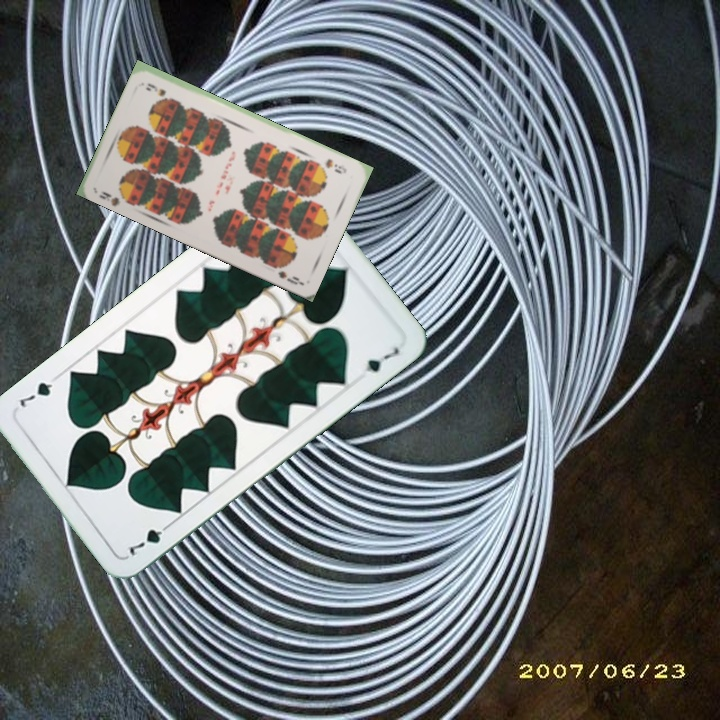G7: (124, 518, 175, 559)
S9: (95, 187, 133, 208), (321, 155, 349, 176)
